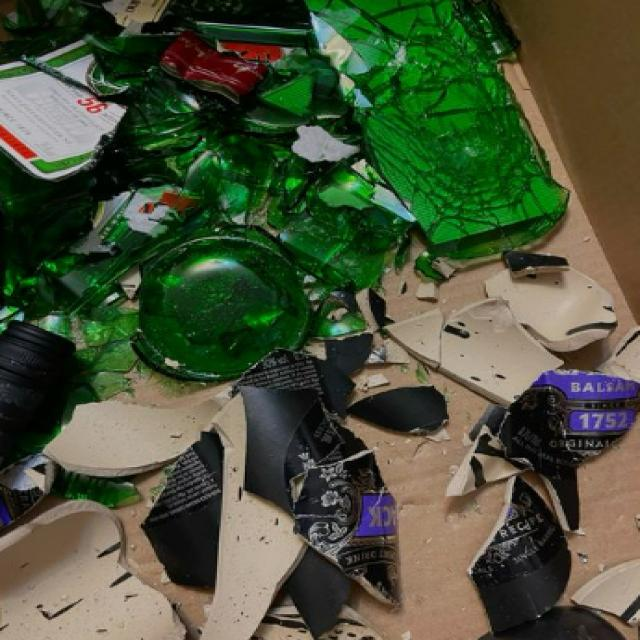PecahanKaca: (0, 0, 568, 386), (128, 225, 314, 383)
